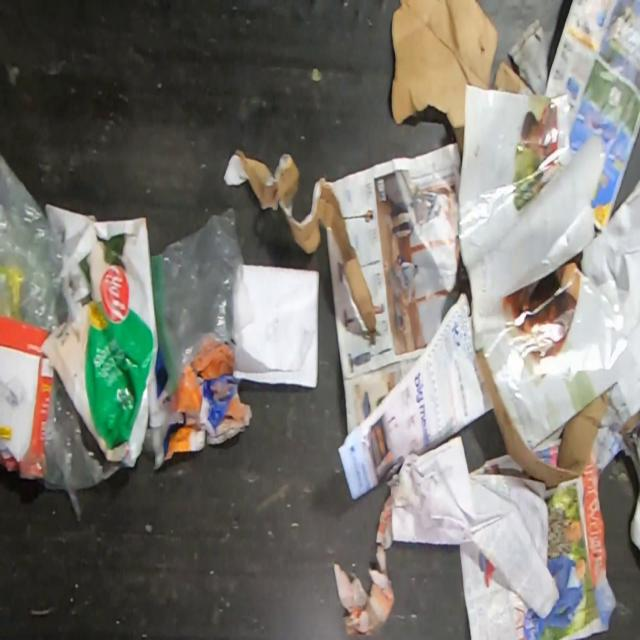cardboard: (222, 147, 379, 336), (390, 0, 538, 166), (475, 346, 609, 489), (0, 315, 55, 481)
soft_plastic: (42, 203, 158, 468), (150, 206, 256, 398), (0, 152, 70, 335), (38, 370, 122, 520)
